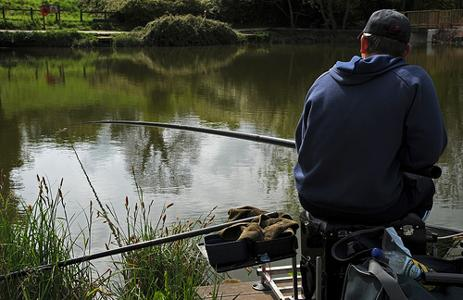person: (295, 10, 448, 226)
